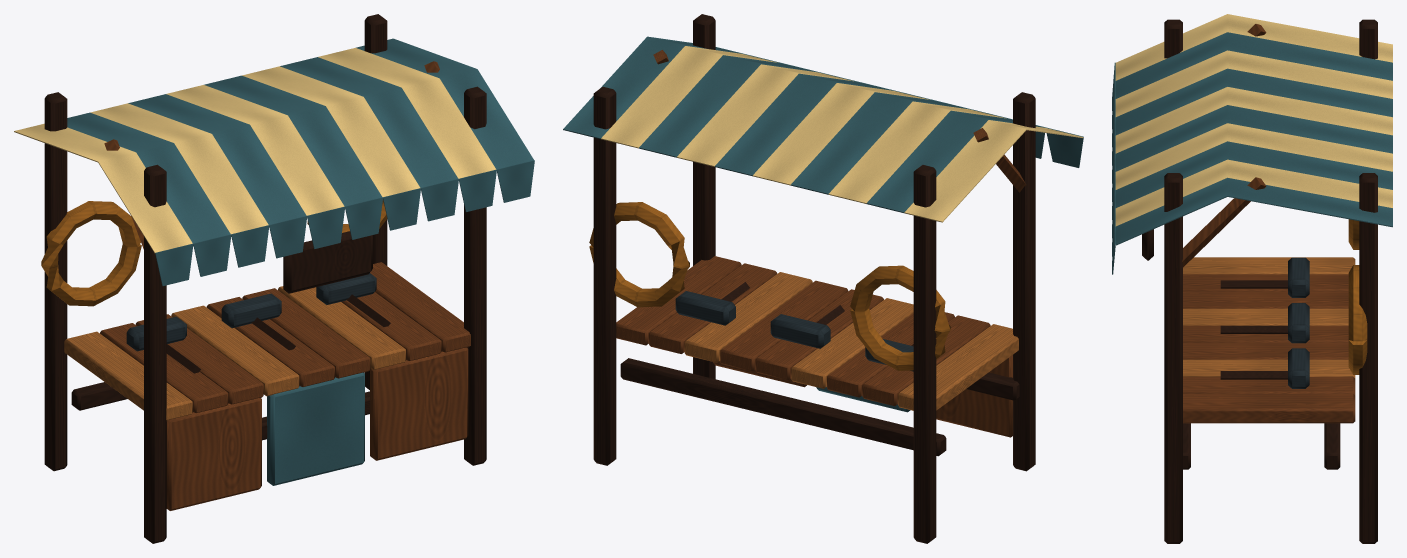
File: Banca_de_ferramentas_LOD0.fbx
3 renders of one model, left to right at view 1: azimuth 30°, elevation 25°; view 2: azimuth 150°, elevation 25°; view 3: azimuth 270°, elevation 25°, orthographic.
Visible parts, largest first — view 1: Banca_de_ferramentas_LOD0; view 2: Banca_de_ferramentas_LOD0; view 3: Banca_de_ferramentas_LOD0.
Part boxes in pixels (left/top/right/bottom): Banca_de_ferramentas_LOD0: left=14, top=14, right=534, bottom=543; Banca_de_ferramentas_LOD0: left=563, top=14, right=1083, bottom=543; Banca_de_ferramentas_LOD0: left=1112, top=14, right=1392, bottom=543.
Size of the model in its own units: 320 by 300 by 209.
1 material, 1 textured.
